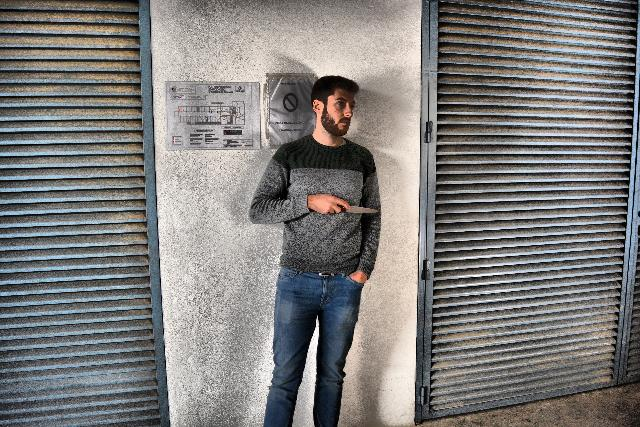knife: (333, 195, 381, 215)
